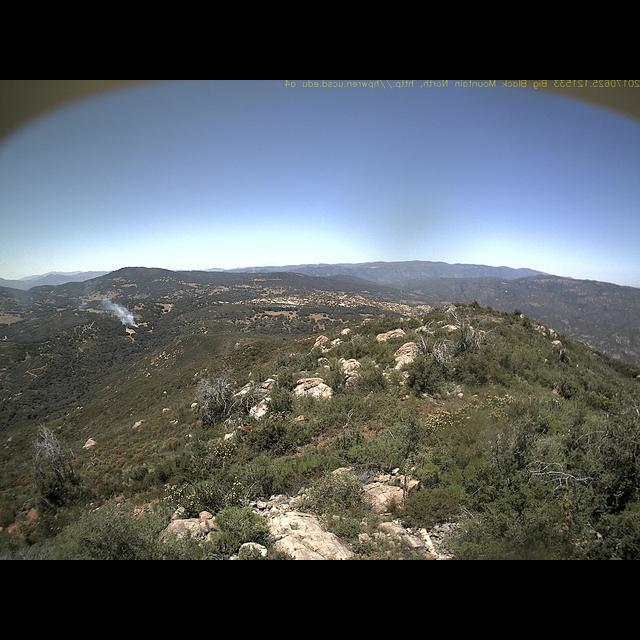Smoke: (75, 284, 143, 331)
